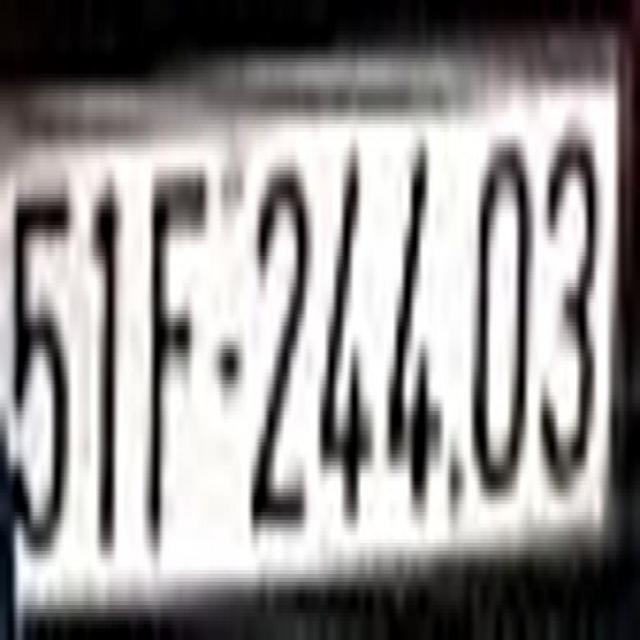0: (470, 120, 530, 516)
1: (86, 155, 120, 570)
2: (245, 155, 308, 547)
3: (539, 116, 602, 496)
4: (318, 148, 378, 540), (384, 132, 444, 504)
5: (13, 171, 76, 566)
F: (146, 163, 209, 551)
